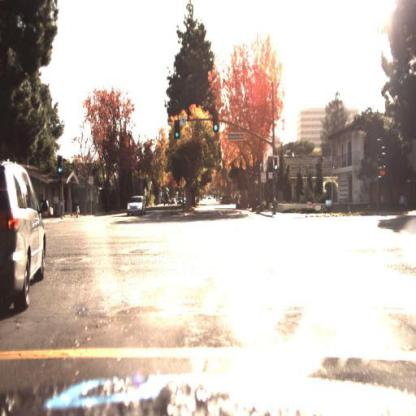car: (128, 196, 145, 217)
trafficLight-Green: (215, 112, 220, 134), (274, 159, 280, 175)
trafficLight-GreenLeft: (56, 156, 65, 178), (175, 122, 180, 144)
